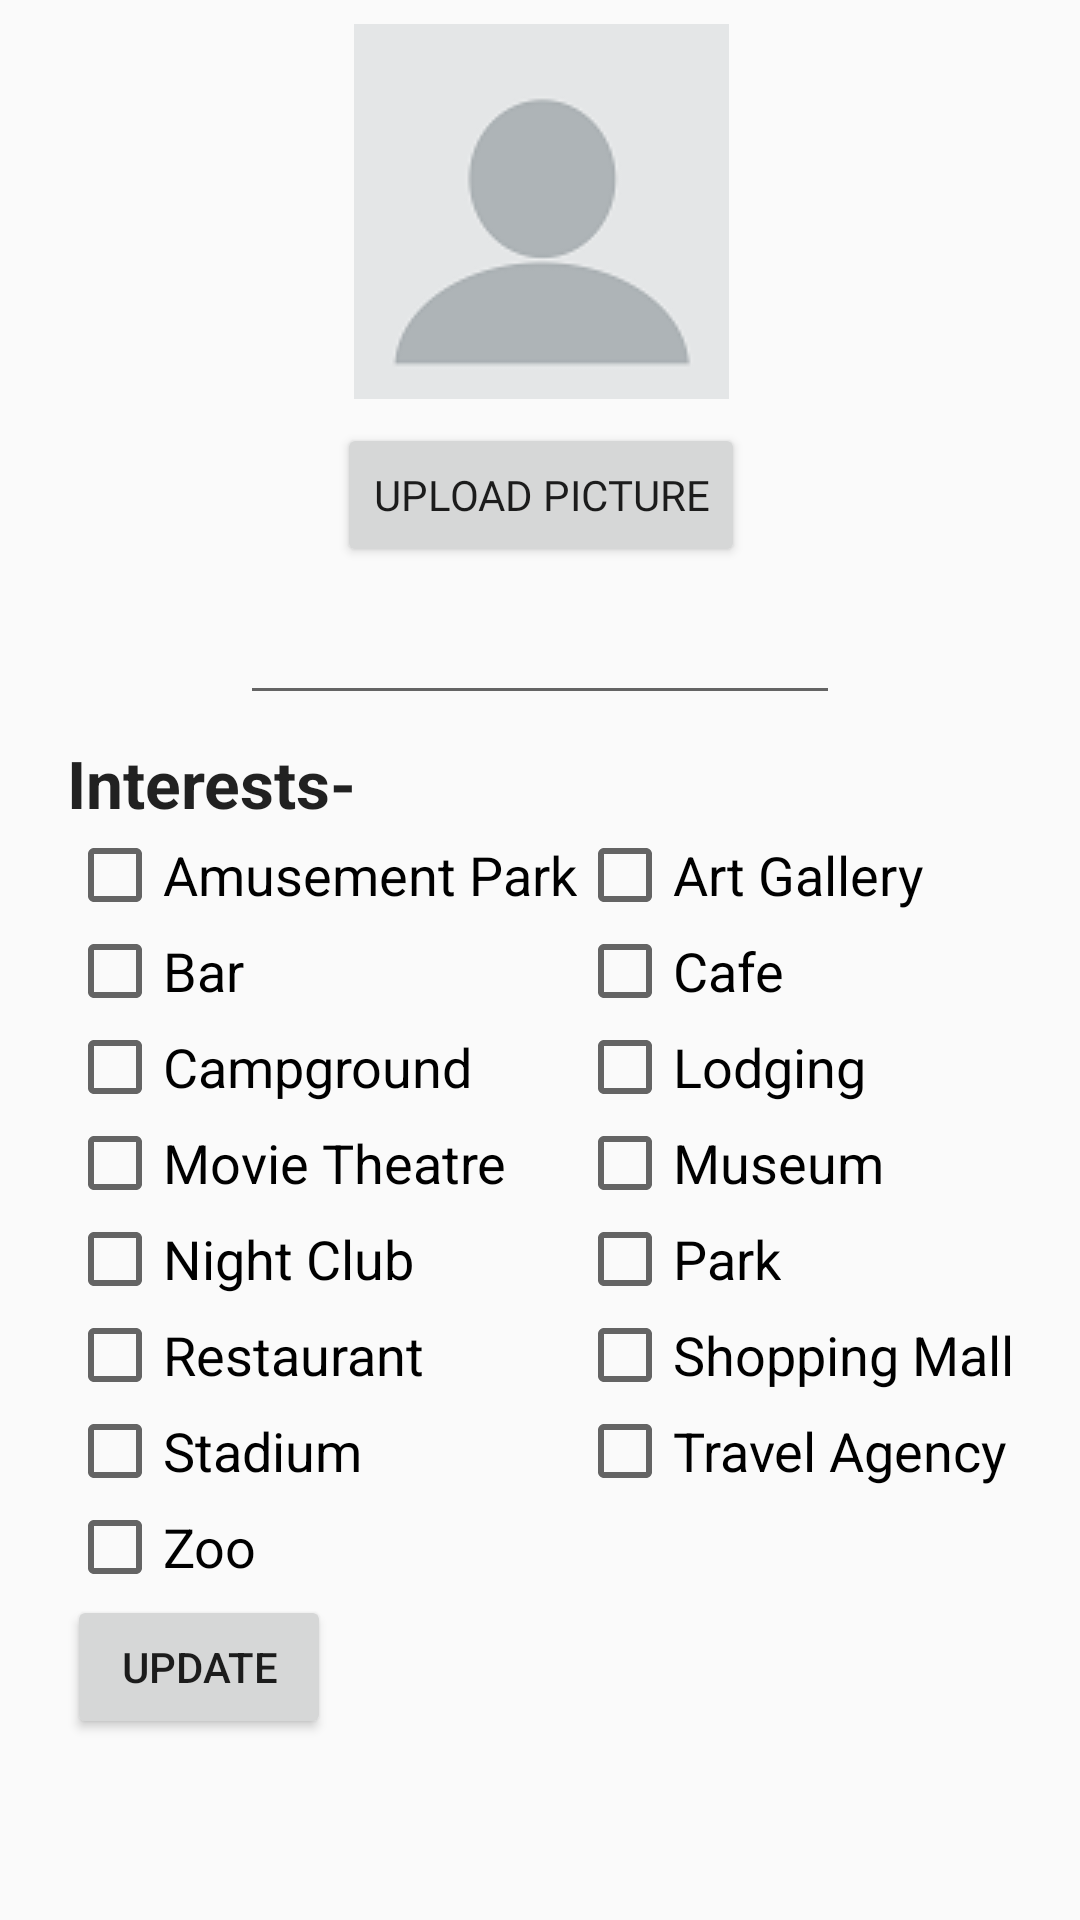

Named icons in this screenshot (1080*1920) and their centers, [x,y]:
profile: [541,232]
